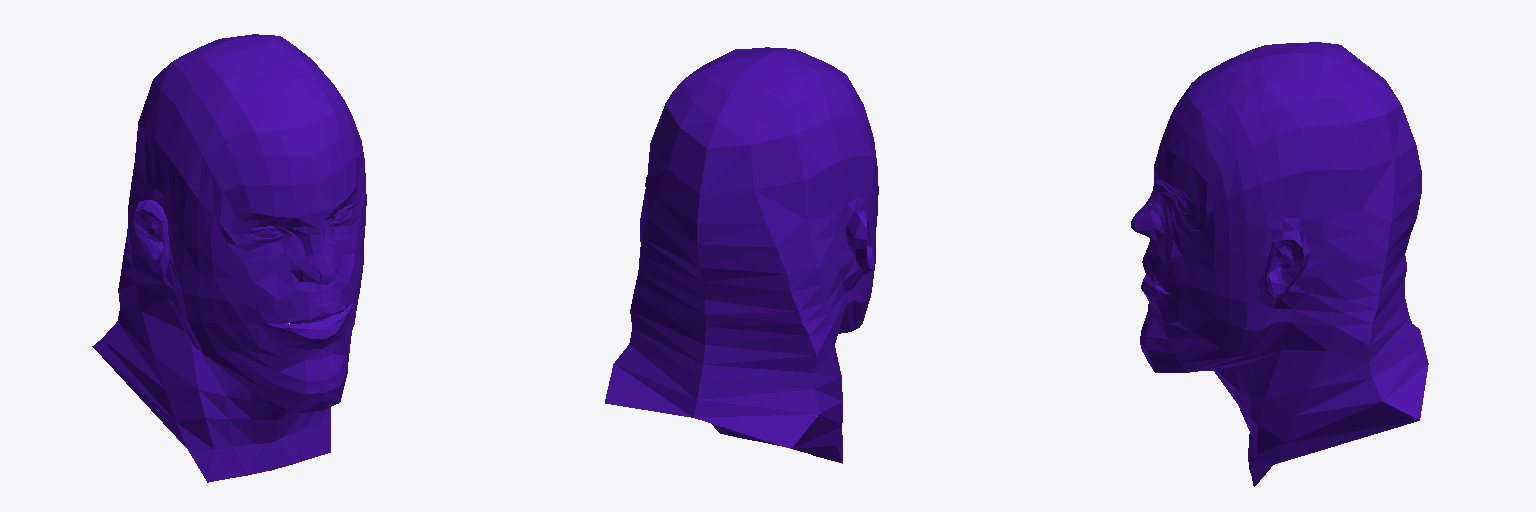
The model's file is thanos_obj.obj.
3 views of the same model, side by side, from view 1: azimuth 30°, elevation 25°; view 2: azimuth 150°, elevation 25°; view 3: azimuth 270°, elevation 25° (orthographic).
Parts seen in each view (by area): view 1: Face; view 2: Face; view 3: Face.
Boxes of the visible parts, <box> form: Face: <box>92,34,366,482</box>; Face: <box>605,47,878,463</box>; Face: <box>1131,42,1428,486</box>.
Bounding box in the file's own units: 69.19 × 121 × 80.39.